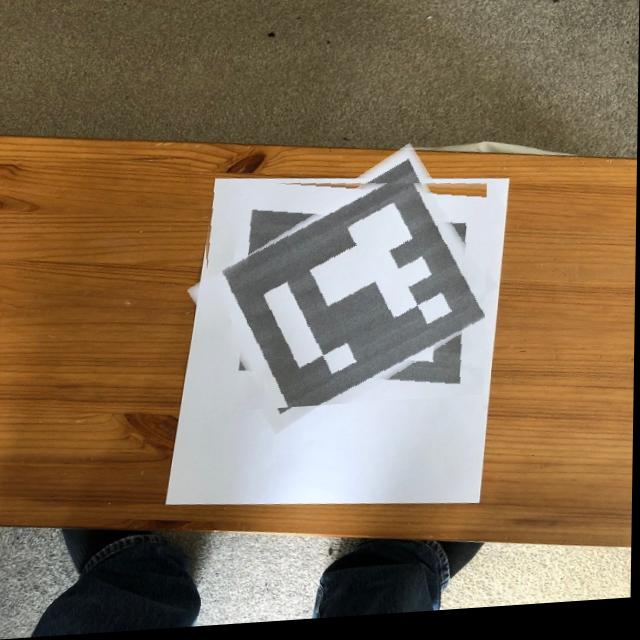aruco: (201, 171, 488, 416)
